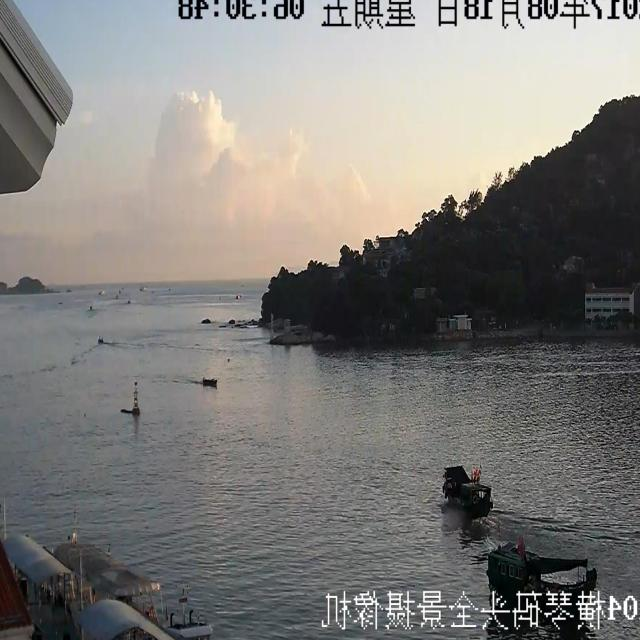buoy: (127, 366, 144, 434)
houseboat: (463, 512, 596, 623), (437, 453, 500, 528)
